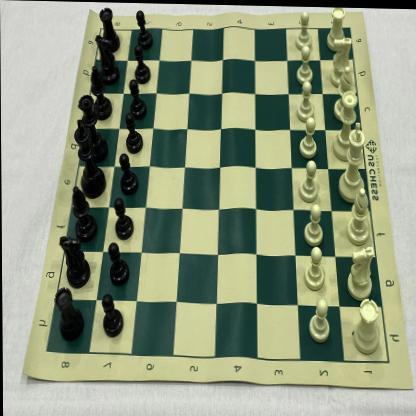black-bishop: (72, 187, 97, 241), (90, 66, 112, 120)
black-king: (71, 119, 105, 197)
black-pawn: (101, 289, 123, 339), (108, 240, 128, 286), (114, 193, 133, 239), (125, 109, 144, 154), (119, 150, 138, 194), (128, 77, 148, 118), (133, 43, 152, 83), (136, 9, 154, 50)
black-queen: (77, 93, 103, 154)
black-rook: (53, 286, 85, 341), (59, 232, 90, 288), (96, 34, 120, 83), (99, 6, 120, 53)
white-bishop: (346, 183, 372, 242), (333, 64, 355, 120)
white-king: (338, 120, 367, 202)
white-knight: (346, 241, 376, 300), (329, 35, 353, 86)
white-pawn: (303, 245, 329, 290), (308, 297, 334, 342), (298, 157, 323, 202), (298, 115, 322, 158), (303, 203, 328, 244), (296, 79, 317, 121), (295, 44, 316, 83), (296, 10, 316, 48)
white-queen: (332, 89, 360, 160)
white-rook: (352, 294, 381, 354), (326, 6, 348, 51)
